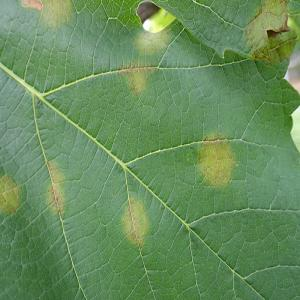Folha: (0, 0, 299, 299)
Fungo: (247, 0, 299, 68), (196, 134, 235, 188), (121, 195, 150, 249), (21, 0, 76, 28), (122, 57, 158, 94), (45, 159, 67, 217), (134, 26, 174, 56), (0, 172, 22, 215)
